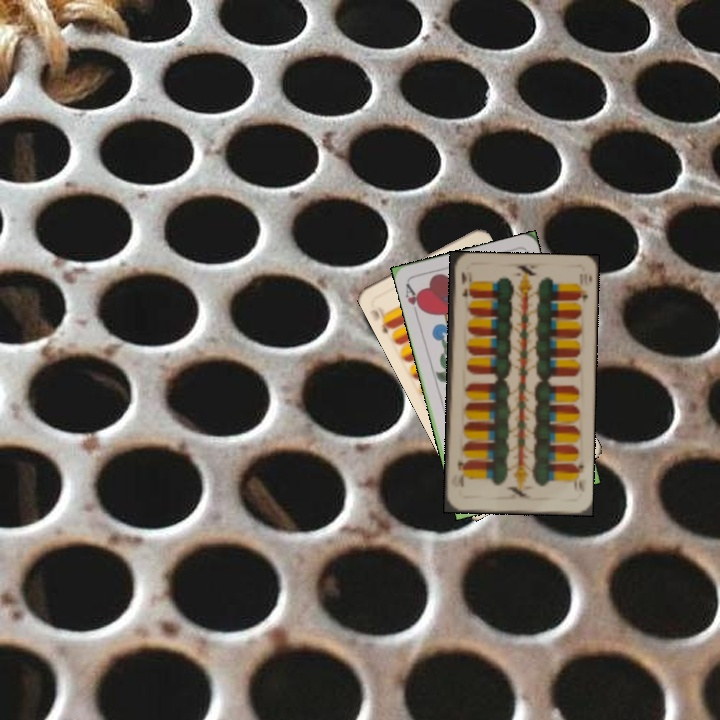E10: (367, 305, 397, 337), (569, 459, 586, 494), (457, 268, 472, 301)
HA: (401, 279, 426, 319)
